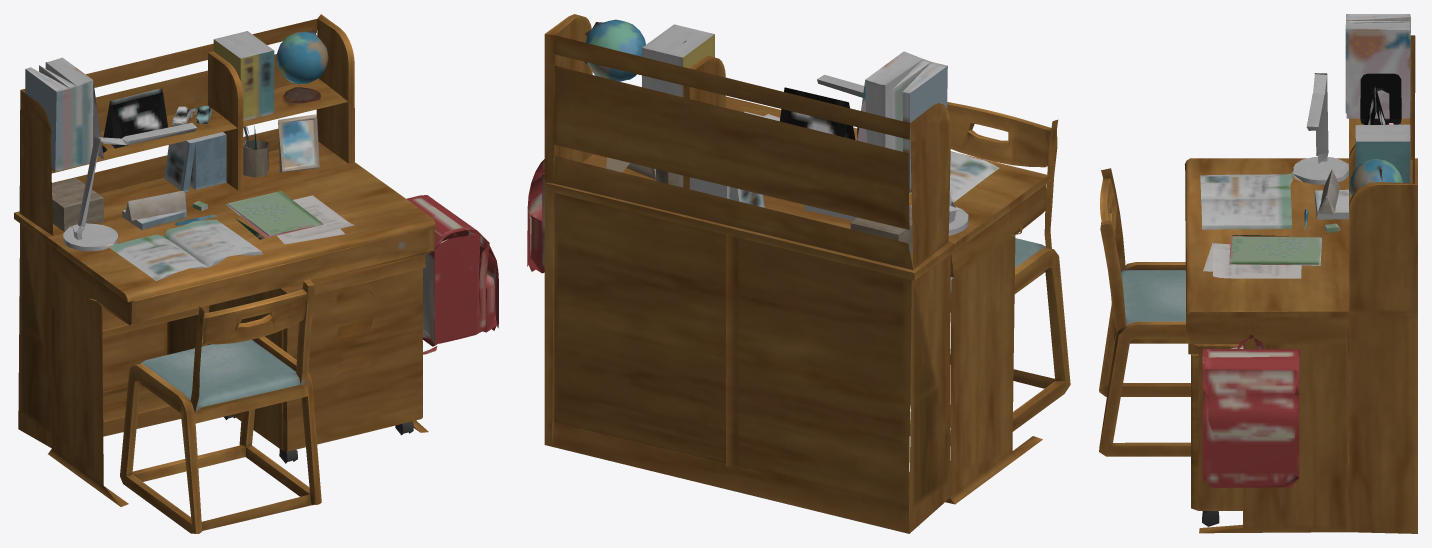
Rendered from room_desk.glb.
3 renders of one model, left to right at view 1: azimuth 30°, elevation 25°; view 2: azimuth 150°, elevation 25°; view 3: azimuth 270°, elevation 25°, orthographic. The views are drawn at different scales.
Parts seen in each view (by area): view 1: mesh; view 2: mesh; view 3: mesh.
Part boxes in pixels (bbox=[...]): mesh: bbox=[14, 14, 498, 533]; mesh: bbox=[527, 14, 1070, 533]; mesh: bbox=[1099, 14, 1417, 533].
Bounding box in the file's own units: 1.01 × 0.91 × 0.7037.
1 material, 1 textured.
